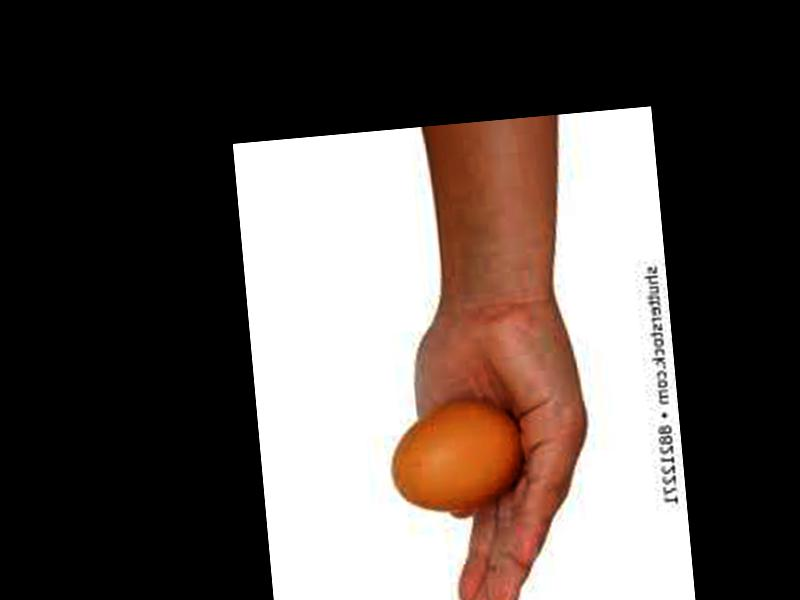Eggs: (385, 396, 529, 515)
